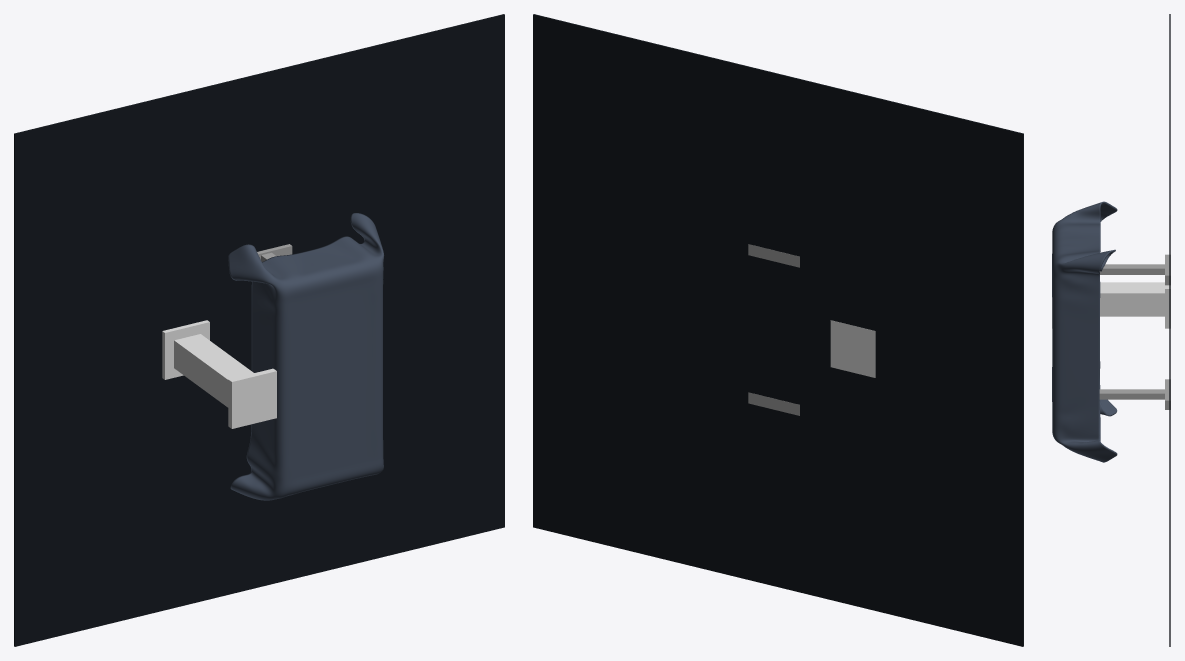
Rendered from maniskill2-scene-2.glb.
3 renders of one model, left to right at view 1: azimuth 30°, elevation 25°; view 2: azimuth 150°, elevation 25°; view 3: azimuth 270°, elevation 25°, orthographic. The views are drawn at different scales.
Parts seen in each view (by area): view 1: Plane.003, tablecloth, Cube.002, Cube, Cube.001; view 2: Plane.003, Cube.001; view 3: tablecloth, Cube.002, Plane.003, leg1, leg2, Cube.001.
Boxes of the visible parts, left/top/right/bottom form: Plane.003: left=14, top=14, right=504, bottom=646; tablecloth: left=228, top=213, right=384, bottom=500; Cube.002: left=174, top=334, right=253, bottom=407; Cube: left=228, top=368, right=276, bottom=428; Cube.001: left=162, top=320, right=209, bottom=379; Plane.003: left=533, top=14, right=1023, bottom=646; Cube.001: left=830, top=320, right=875, bottom=377; tablecloth: left=1052, top=201, right=1117, bottom=462; Cube.002: left=1100, top=282, right=1164, bottom=316; Plane.003: left=1169, top=14, right=1170, bottom=646; leg1: left=1099, top=379, right=1170, bottom=409; leg2: left=1099, top=254, right=1170, bottom=285; Cube.001: left=1165, top=285, right=1170, bottom=328.
Size of the model in its own units: 3.61 by 3.61 by 0.9006.
